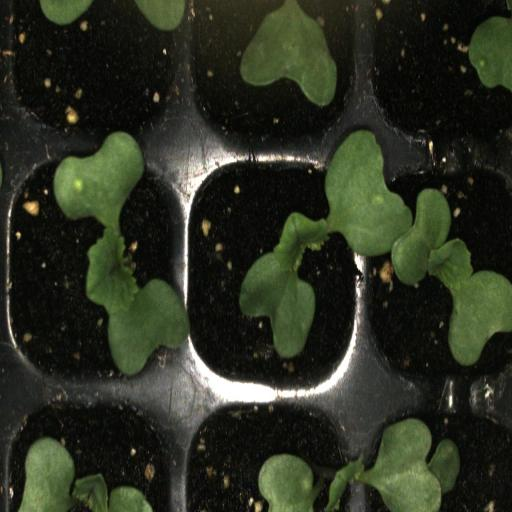Folha: (325, 418, 460, 512), (240, 0, 337, 107), (18, 437, 153, 512), (258, 453, 319, 512), (134, 0, 193, 58), (468, 16, 512, 91)
Germinacao: (0, 147, 183, 396), (184, 152, 364, 404), (363, 152, 512, 399), (183, 393, 367, 512)
